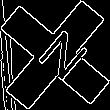N_SW: (23, 23, 87, 87)
